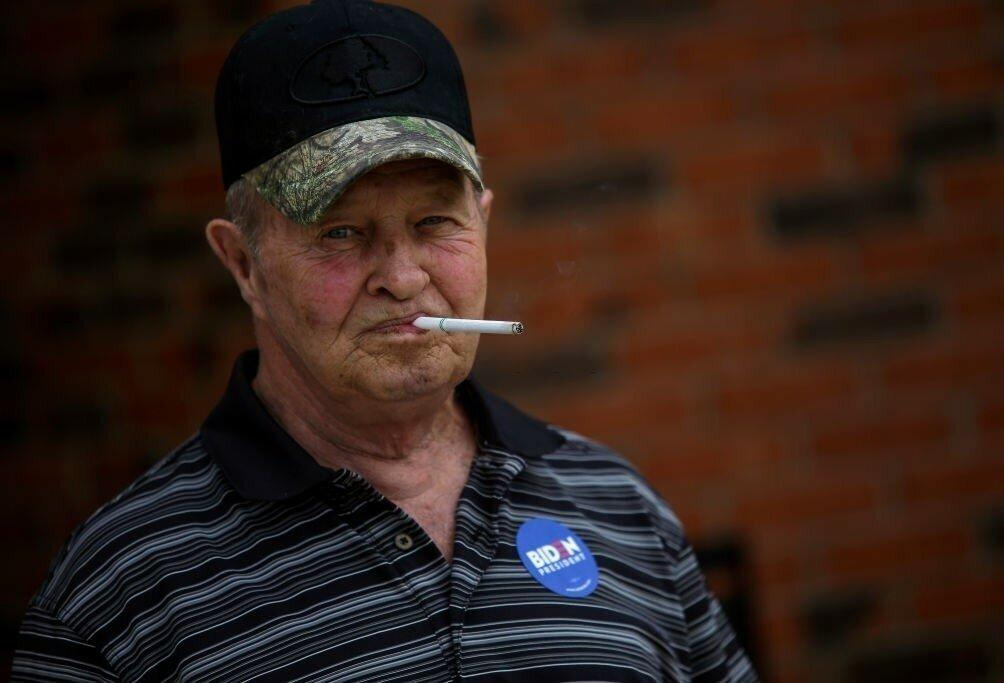cigarette: (414, 316, 524, 334)
